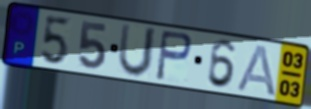5: (39, 13, 74, 67), (78, 19, 111, 71)
6: (206, 38, 239, 90)
A: (234, 43, 278, 98)
P: (153, 29, 194, 84)
U: (115, 22, 159, 80)
